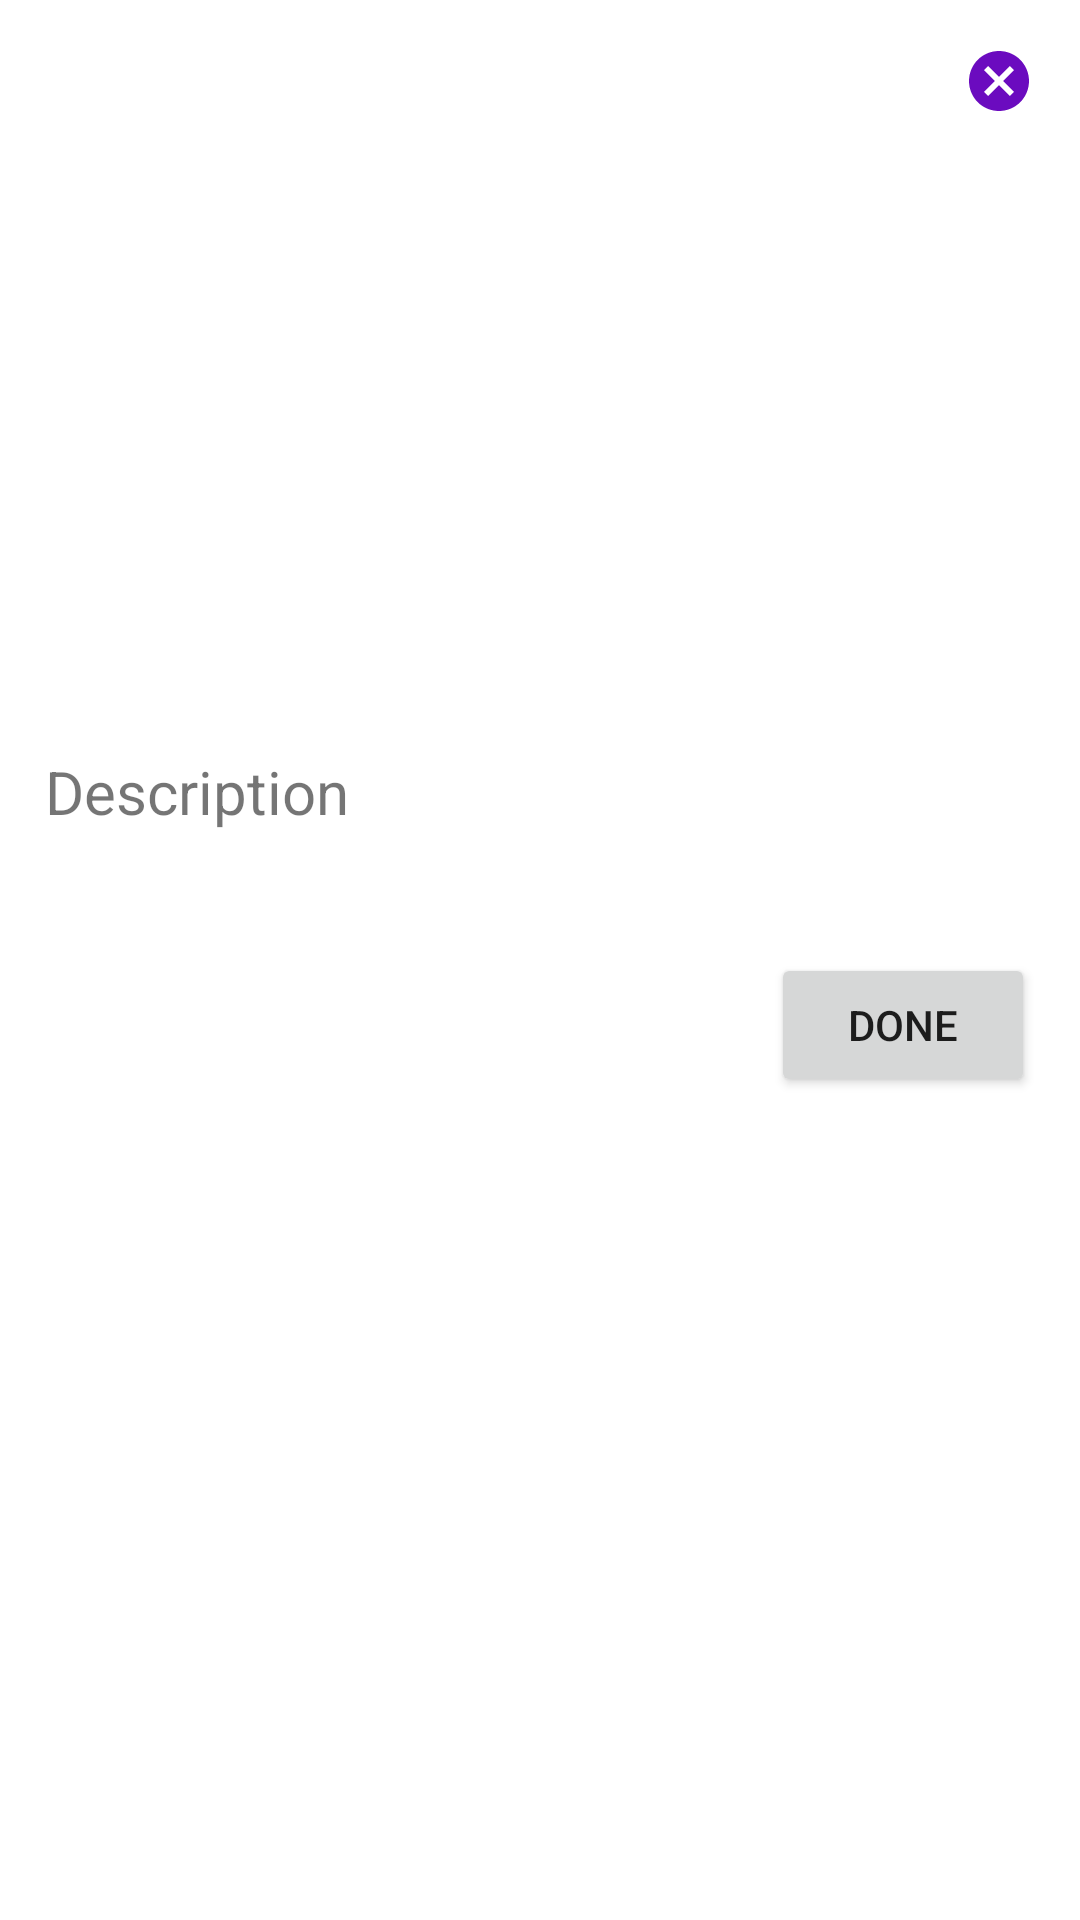

Where to tap for icons on this 1080px×1920px app screen, as (x,y):
cancel: (999,81)
